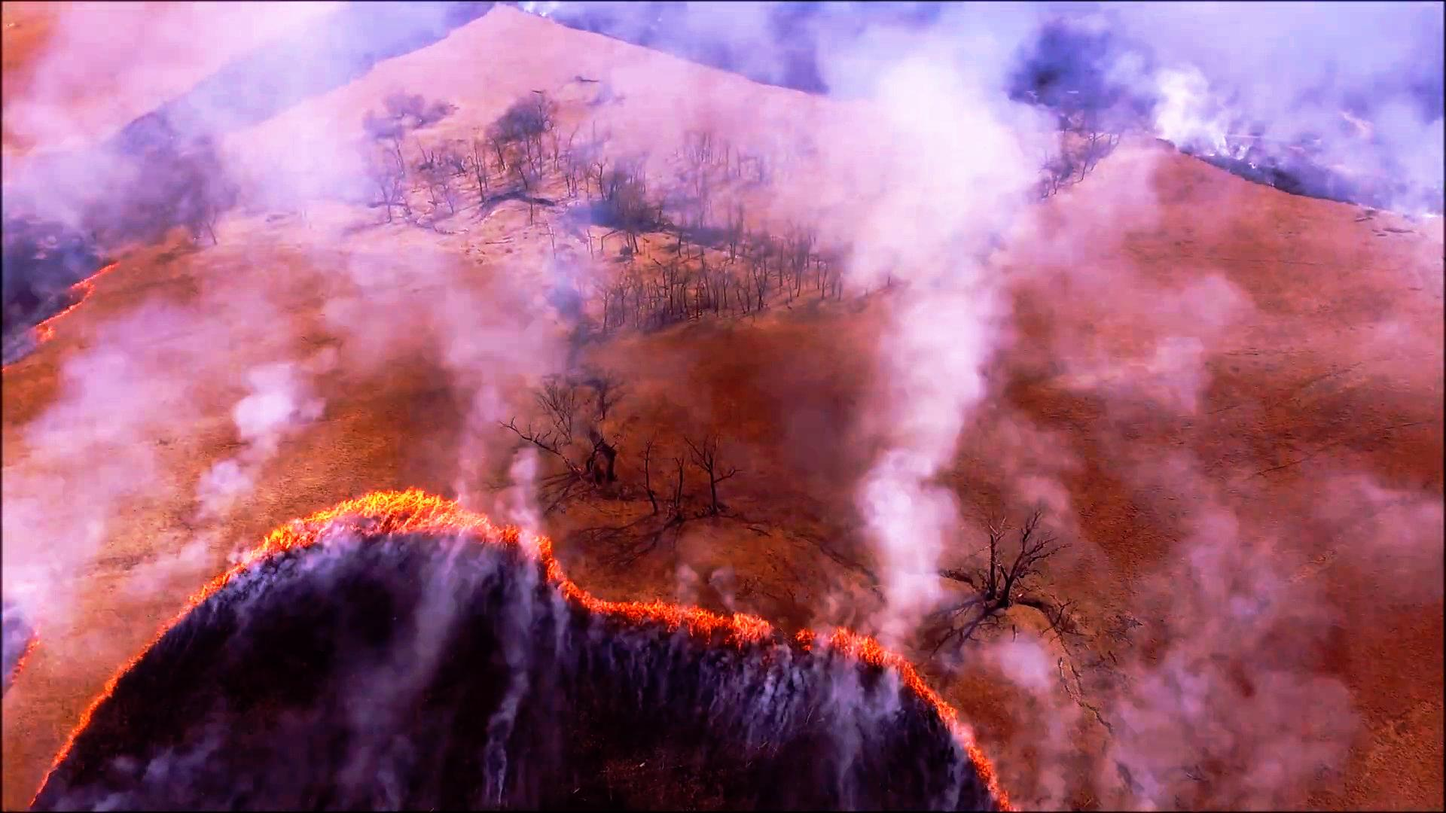fire: (323, 484, 468, 545), (474, 515, 553, 564), (640, 600, 723, 635), (735, 612, 770, 652)
smoke: (820, 0, 1050, 661), (1103, 547, 1357, 813), (196, 365, 317, 566), (694, 651, 905, 752), (482, 590, 545, 810)
